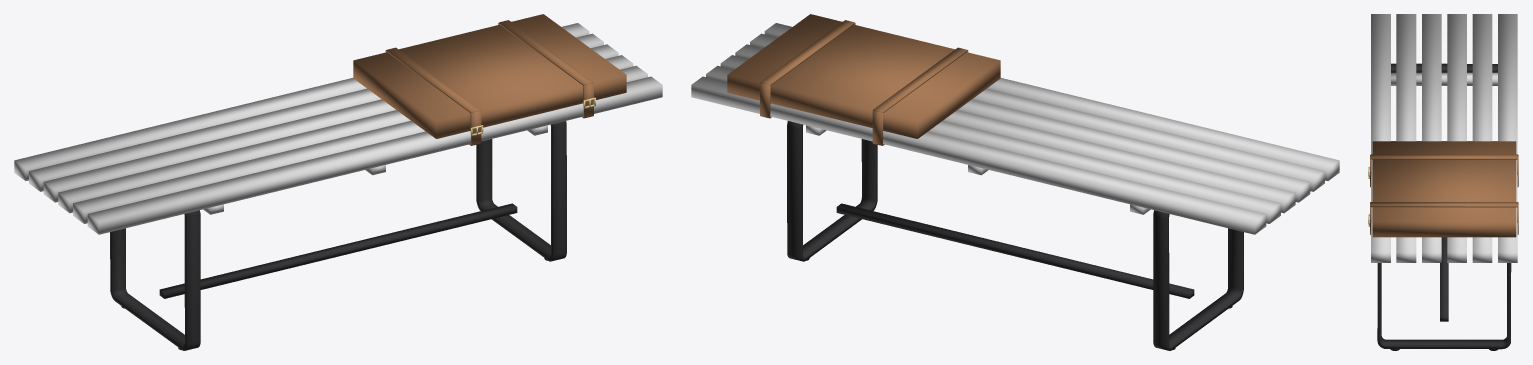
File: Bench.glb
3 views of the same model, side by side, from view 1: azimuth 30°, elevation 25°; view 2: azimuth 150°, elevation 25°; view 3: azimuth 270°, elevation 25° (orthographic). The views are drawn at different scales.
Parts seen in each view (by area): view 1: Bench_Slats, Bench_Leather_Cushion, Bench_Steel_Legs, Bench_Stretcher, Bench_Leather_Straps; view 2: Bench_Slats, Bench_Leather_Cushion, Bench_Steel_Legs, Bench_Stretcher, Bench_Leather_Straps; view 3: Bench_Slats, Bench_Leather_Cushion, Bench_Steel_Legs, Bench_Leather_Straps, Bench_Stretcher, Bench_Battens.
Boxes of the visible parts, x1=… form: Bench_Slats: x1=14, y1=23, x2=662, y2=234; Bench_Leather_Cushion: x1=353, y1=14, x2=626, y2=138; Bench_Steel_Legs: x1=110, y1=121, x2=566, y2=350; Bench_Stretcher: x1=159, y1=203, x2=517, y2=298; Bench_Leather_Straps: x1=385, y1=20, x2=593, y2=145; Bench_Slats: x1=691, y1=23, x2=1339, y2=234; Bench_Leather_Cushion: x1=727, y1=14, x2=1000, y2=138; Bench_Steel_Legs: x1=787, y1=121, x2=1243, y2=350; Bench_Stretcher: x1=836, y1=203, x2=1194, y2=298; Bench_Leather_Straps: x1=760, y1=20, x2=968, y2=145; Bench_Slats: x1=1371, y1=14, x2=1517, y2=262; Bench_Leather_Cushion: x1=1372, y1=141, x2=1516, y2=237; Bench_Steel_Legs: x1=1377, y1=63, x2=1511, y2=349; Bench_Leather_Straps: x1=1370, y1=154, x2=1518, y2=234; Bench_Stretcher: x1=1440, y1=237, x2=1448, y2=321; Bench_Battens: x1=1391, y1=72, x2=1497, y2=141.
Bounding box in the file's own units: 1.6 × 0.487 × 0.427.
